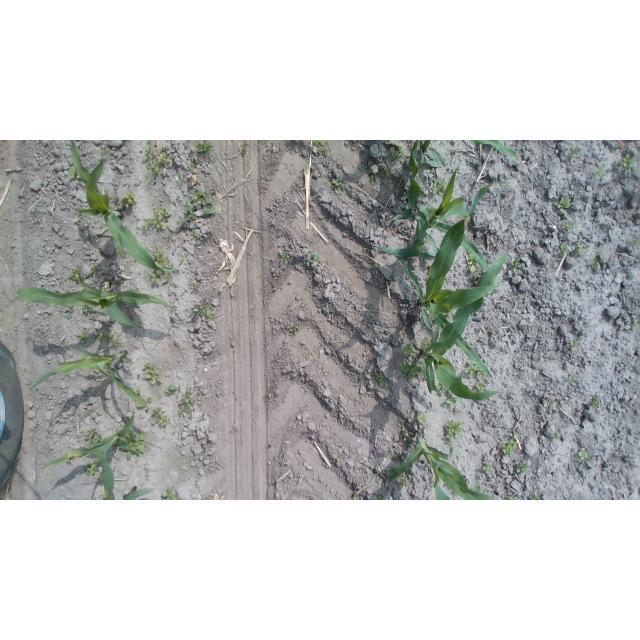Maize: (377, 141, 511, 276), (395, 221, 493, 379), (69, 141, 178, 276), (415, 253, 509, 403), (40, 405, 134, 500), (385, 428, 498, 501), (29, 346, 152, 410), (17, 278, 175, 327), (419, 140, 521, 170), (122, 484, 154, 500)
Weeds: (179, 190, 217, 224), (143, 143, 174, 181), (119, 428, 145, 460), (140, 206, 170, 229), (179, 387, 197, 420), (153, 246, 176, 270), (444, 420, 465, 444), (399, 359, 422, 380), (144, 364, 165, 385), (192, 305, 217, 322), (463, 360, 485, 379), (379, 161, 393, 189), (359, 160, 377, 181), (151, 407, 170, 426), (148, 268, 170, 284), (97, 332, 120, 347), (553, 195, 571, 213), (432, 177, 449, 196), (84, 456, 100, 476), (83, 427, 102, 443), (73, 211, 90, 228), (444, 391, 460, 409), (502, 439, 518, 457), (390, 145, 405, 164), (401, 342, 417, 358), (621, 154, 637, 170), (195, 142, 213, 156), (161, 487, 180, 500), (313, 141, 329, 156), (67, 267, 84, 281), (401, 428, 417, 442), (562, 219, 576, 234), (467, 252, 477, 273), (124, 192, 137, 208), (308, 251, 325, 262), (376, 373, 389, 387), (510, 257, 522, 272), (279, 252, 294, 263), (69, 166, 82, 178), (589, 396, 602, 408), (79, 329, 89, 344), (437, 384, 448, 397), (569, 339, 579, 353), (516, 462, 528, 473), (576, 242, 588, 253), (578, 448, 588, 461), (417, 412, 427, 424), (593, 167, 605, 177), (81, 304, 94, 313), (472, 484, 485, 493), (165, 385, 178, 394), (475, 381, 486, 391), (91, 264, 102, 274), (99, 148, 111, 157), (631, 319, 640, 331), (332, 178, 344, 187), (508, 430, 521, 438), (420, 337, 429, 348), (161, 231, 172, 240), (572, 147, 581, 158), (483, 463, 493, 472), (391, 452, 402, 460), (560, 244, 568, 255), (397, 480, 406, 489), (190, 230, 198, 240), (289, 326, 299, 334), (424, 306, 433, 314), (64, 312, 73, 320), (378, 492, 387, 500), (532, 492, 541, 500), (80, 411, 89, 419), (590, 259, 597, 269), (174, 174, 182, 182), (553, 406, 561, 414), (239, 146, 246, 154), (632, 239, 640, 246), (189, 284, 195, 293), (193, 156, 200, 163), (372, 263, 380, 269), (112, 280, 121, 285), (137, 321, 143, 328), (428, 483, 435, 489), (147, 398, 153, 405), (187, 162, 193, 168), (509, 494, 515, 500), (400, 472, 407, 477), (554, 433, 559, 439), (568, 376, 574, 381), (347, 192, 353, 197), (133, 389, 139, 394), (409, 256, 416, 260), (204, 496, 211, 500), (338, 456, 343, 461), (87, 168, 91, 174), (488, 430, 492, 435), (429, 408, 433, 413), (404, 196, 408, 198)
